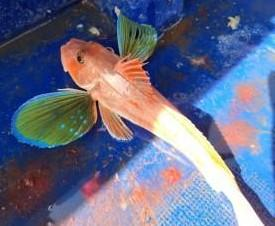fish: (12, 8, 265, 225)
